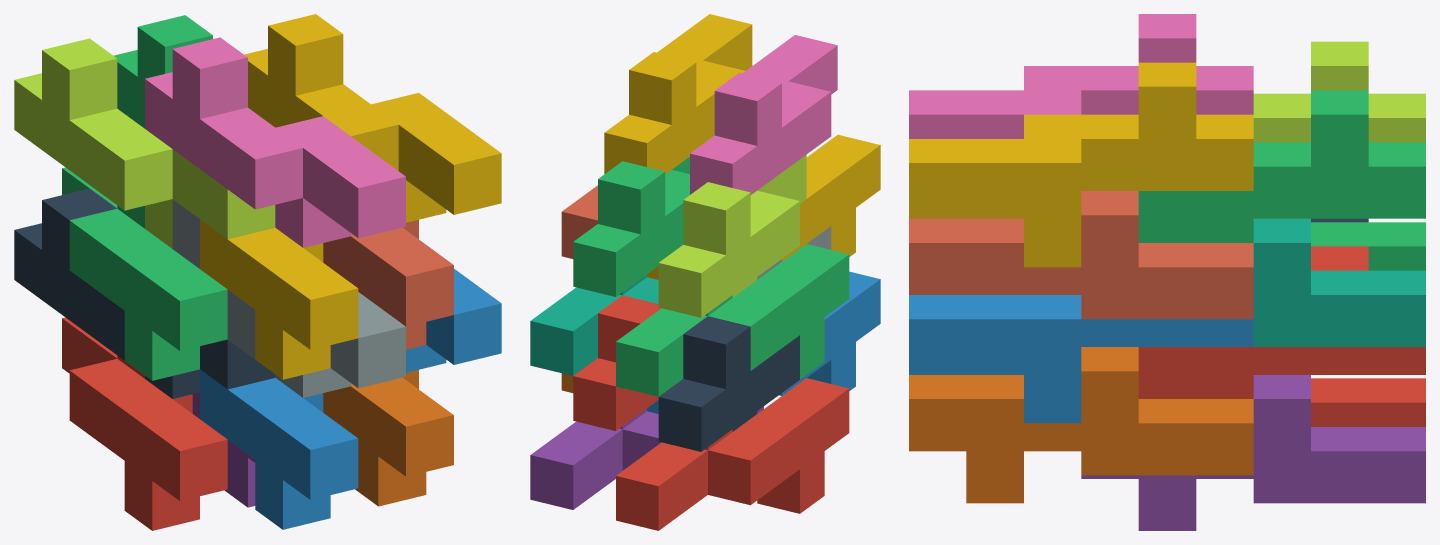
Rendered from tiling.obj.
3 views of the same model, side by side, from view 1: azimuth 30°, elevation 25°; view 2: azimuth 150°, elevation 25°; view 3: azimuth 270°, elevation 25° (orthographic). The views are drawn at different scales.
Parts seen in each view (by area): view 1: copy_2_domain_4, copy_2_domain_8, copy_2_domain_3, copy_1_domain_1, copy_1_domain_3, copy_1_domain_2, copy_1_domain_4, copy_2_domain_1, copy_1_domain_6, copy_1_domain_8, copy_2_domain_2, copy_2_domain_6 (+2 smaller); view 2: copy_1_domain_1, copy_2_domain_4, copy_1_domain_3, copy_2_domain_3, copy_2_domain_8, copy_2_domain_1, copy_2_domain_7, copy_1_domain_5, copy_1_domain_4, copy_2_domain_5, copy_1_domain_7, copy_1_domain_2 (+2 smaller); view 3: copy_2_domain_8, copy_1_domain_6, copy_1_domain_8, copy_2_domain_7, copy_2_domain_6, copy_1_domain_5, copy_2_domain_4, copy_1_domain_7, copy_2_domain_5, copy_2_domain_3, copy_1_domain_1, copy_1_domain_3.
Boxes of the visible parts, bbox=[...] form: copy_2_domain_4: bbox=[145, 37, 405, 247]; copy_2_domain_8: bbox=[244, 14, 501, 222]; copy_2_domain_3: bbox=[14, 38, 275, 248]; copy_1_domain_1: bbox=[62, 317, 227, 530]; copy_1_domain_3: bbox=[62, 167, 227, 380]; copy_1_domain_2: bbox=[200, 369, 358, 529]; copy_1_domain_4: bbox=[200, 219, 358, 379]; copy_2_domain_1: bbox=[14, 188, 275, 398]; copy_1_domain_6: bbox=[323, 370, 453, 506]; copy_1_domain_8: bbox=[323, 219, 453, 349]; copy_2_domain_2: bbox=[172, 199, 405, 397]; copy_2_domain_6: bbox=[406, 269, 501, 372]; copy_1_domain_1: bbox=[616, 378, 849, 530]; copy_2_domain_4: bbox=[690, 35, 837, 194]; copy_1_domain_3: bbox=[616, 244, 849, 396]; copy_2_domain_3: bbox=[658, 154, 806, 317]; copy_2_domain_8: bbox=[604, 14, 752, 173]; copy_2_domain_1: bbox=[658, 316, 799, 451]; copy_2_domain_7: bbox=[573, 157, 689, 296]; copy_1_domain_5: bbox=[530, 406, 763, 509]; copy_1_domain_4: bbox=[647, 134, 880, 279]; copy_2_domain_5: bbox=[573, 295, 661, 430]; copy_1_domain_7: bbox=[530, 274, 658, 375]; copy_1_domain_2: bbox=[647, 271, 880, 413]; copy_2_domain_8: bbox=[909, 62, 1253, 267]; copy_1_domain_6: bbox=[909, 347, 1253, 503]; copy_1_domain_8: bbox=[909, 191, 1253, 319]; copy_2_domain_7: bbox=[1138, 90, 1425, 242]; copy_2_domain_6: bbox=[909, 295, 1253, 423]; copy_1_domain_5: bbox=[1081, 375, 1425, 530]; copy_2_domain_4: bbox=[909, 14, 1253, 138]; copy_1_domain_7: bbox=[1253, 218, 1425, 346]; copy_2_domain_5: bbox=[1138, 246, 1425, 398]; copy_2_domain_3: bbox=[1253, 41, 1425, 142]; copy_1_domain_1: bbox=[1311, 378, 1425, 426]; copy_1_domain_3: bbox=[1311, 222, 1425, 270].
Bounding box in the file's own units: 5 × 9 × 9.
